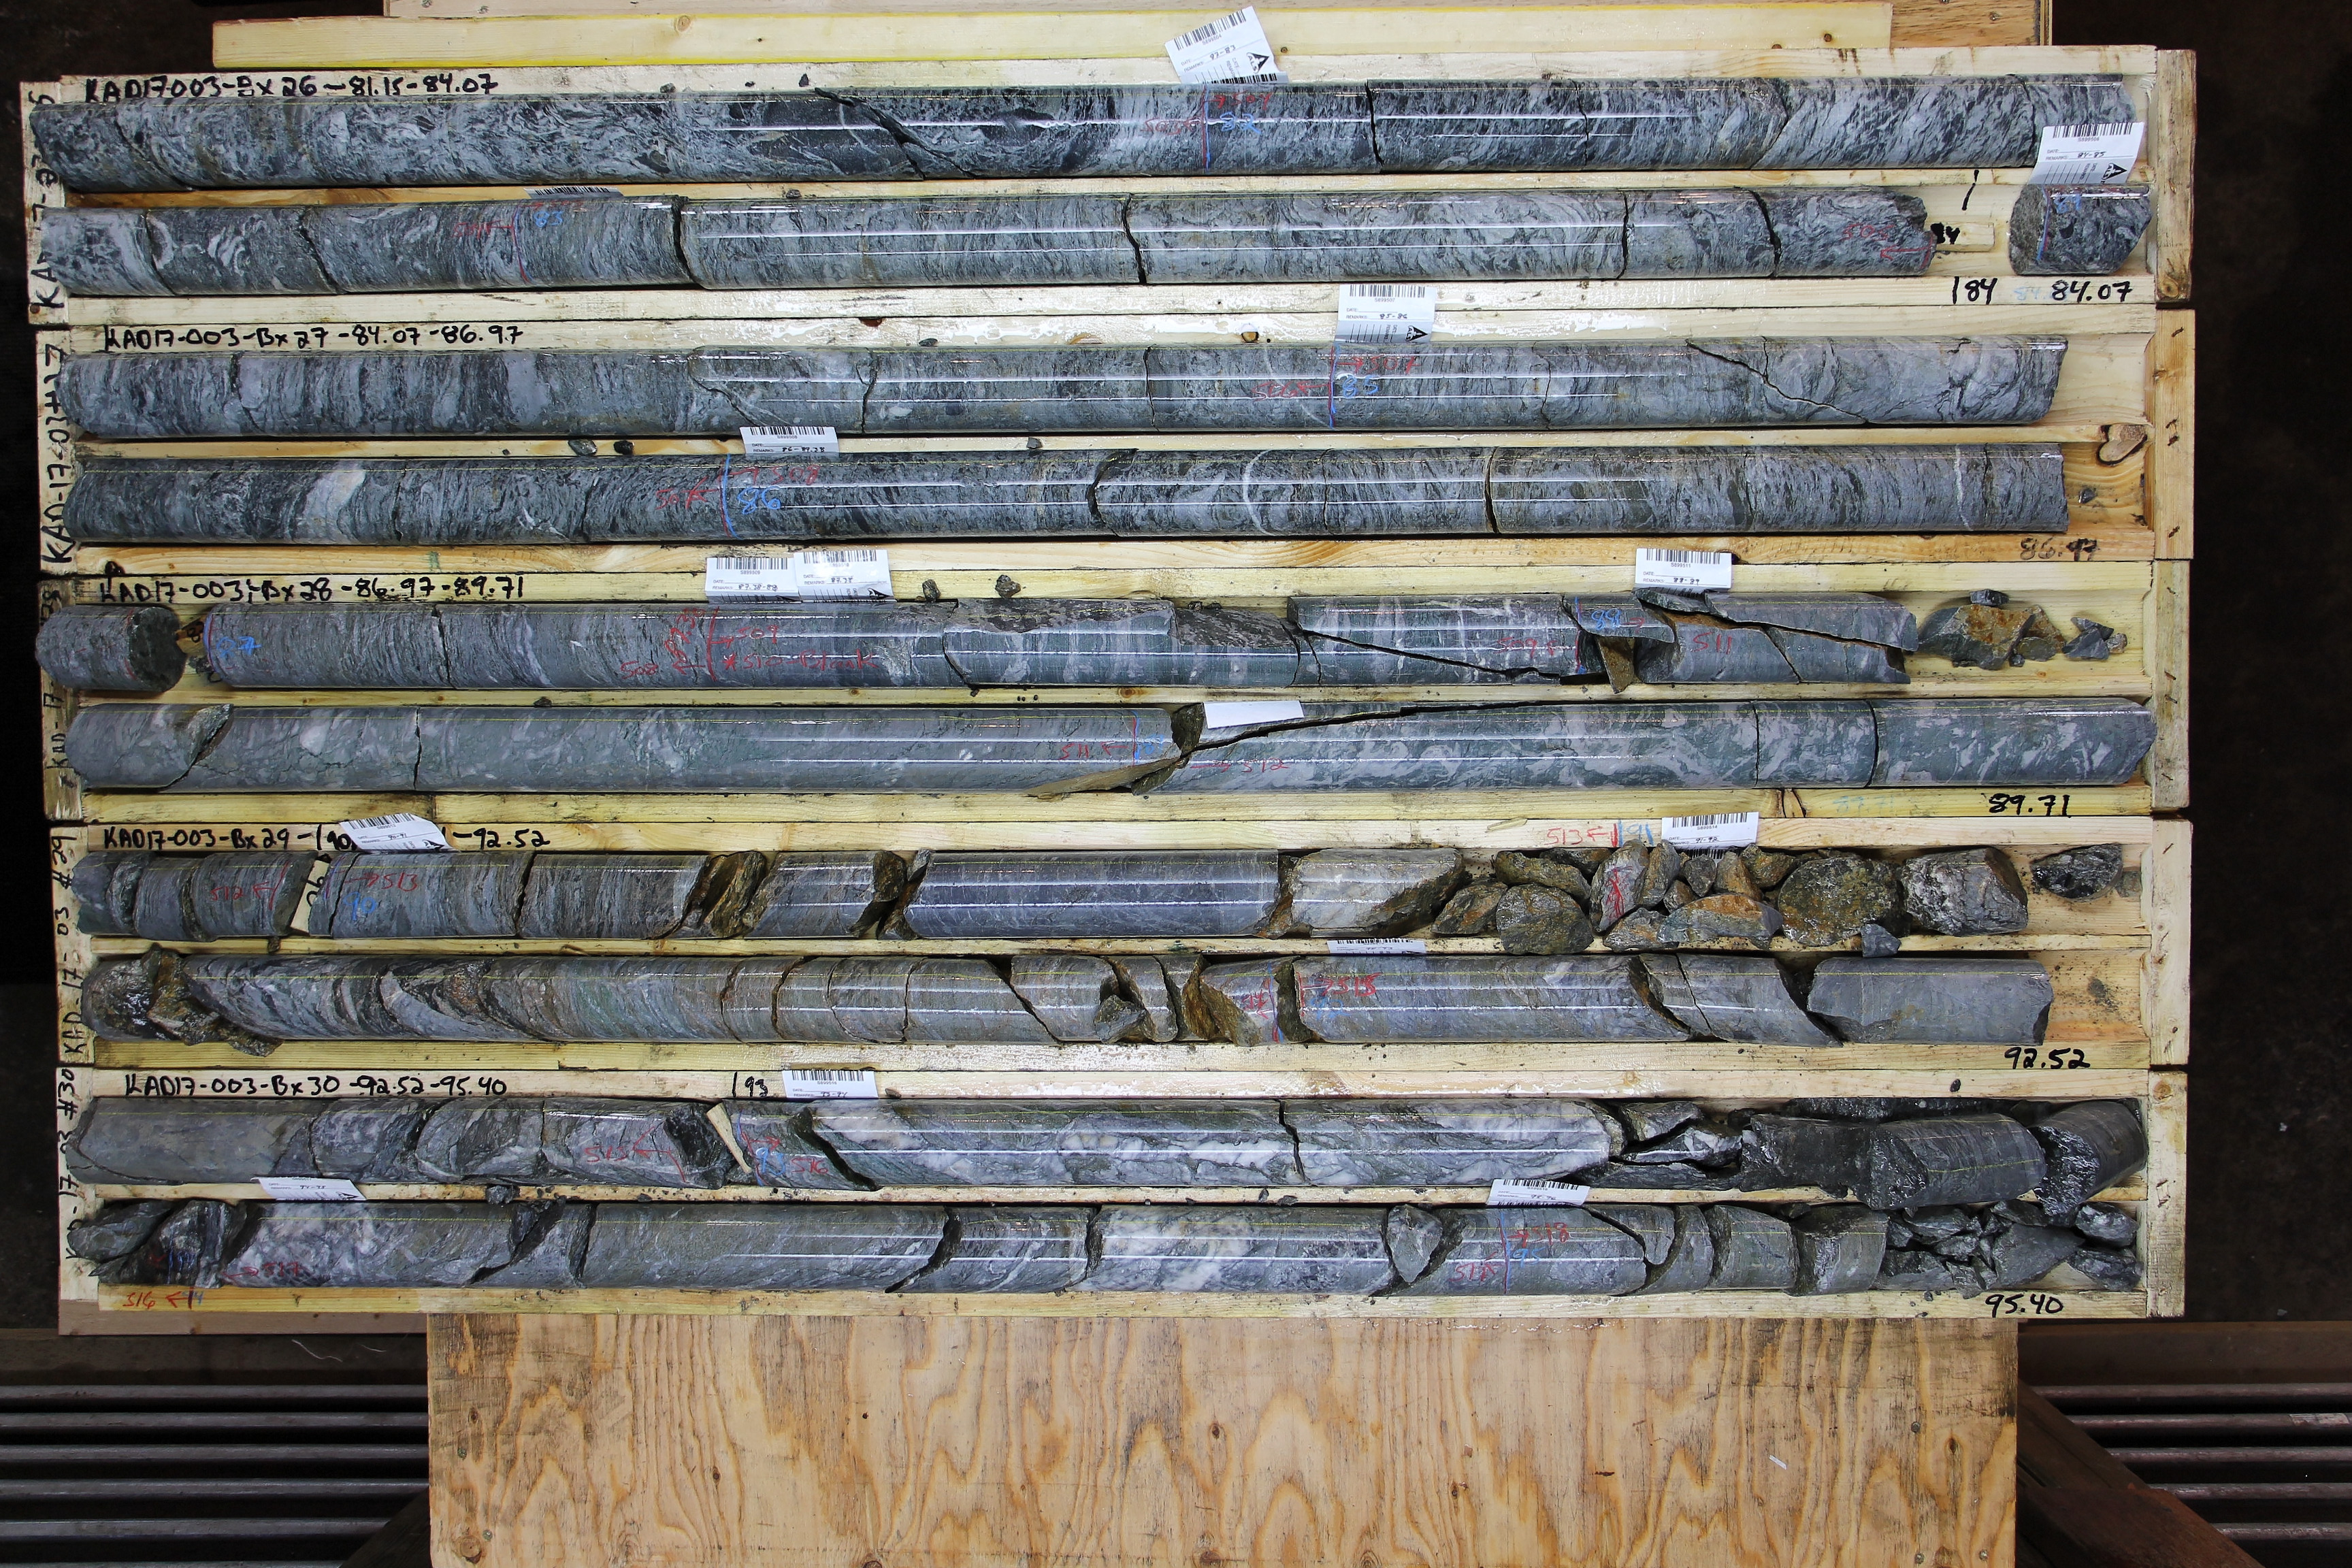rock-KAD17_003-81.15-82: (61, 89, 1205, 182)
rock-KAD17_003-82-82x: (1209, 87, 2142, 169)
rock-KAD17_003-82x-83: (68, 197, 524, 295)
rock-KAD17_003-83-84: (529, 193, 1929, 286)
rock-KAD17_003-84-84x: (2017, 184, 2148, 272)
rock-KAD17_003-84x-85: (69, 345, 1334, 438)
rock-KAD17_003-85-85x: (1342, 338, 2065, 424)
rock-KAD17_003-85x-86: (84, 460, 724, 544)
rock-KAD17_003-86-87: (726, 452, 2074, 538)
rock-KAD17_003-87-88: (210, 599, 1575, 686)
rock-KAD17_003-88-88x: (1584, 591, 1923, 678)
rock-KAD17_003-88x-89: (80, 708, 1133, 788)
rock-KAD17_003-89-89x: (1147, 700, 2151, 789)
rock-KAD17_003-89x-90: (87, 853, 289, 931)
rock-KAD17_003-90-91: (333, 849, 1618, 939)
rock-KAD17_003-91-91x: (1624, 849, 2027, 935)
rock-KAD17_003-91x-92: (93, 958, 1269, 1042)
rock-KAD17_003-92-92x: (1296, 955, 2047, 1041)
rock-KAD17_003-92x-93: (89, 1097, 703, 1182)
rock-KAD17_003-93-94: (734, 1098, 2141, 1186)
rock-KAD17_003-94-95: (169, 1200, 1507, 1288)
rock-KAD17_003-95-95.40: (1509, 1203, 2143, 1290)
